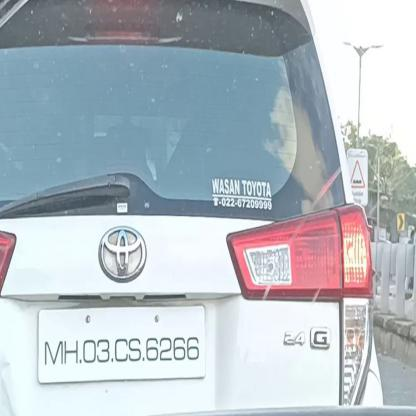license_plate: (36, 302, 206, 385)
